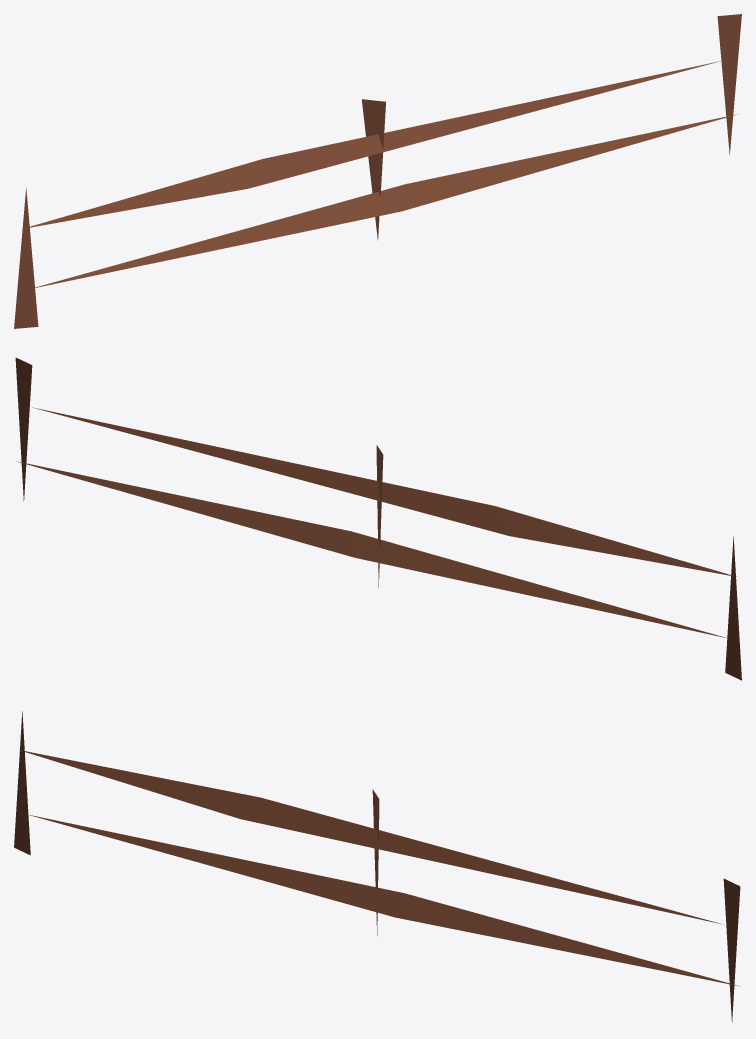
The model's file is Fence.lod3.glb.
The picture shows the model from 3 angles, top to bottom: view 1: azimuth 30°, elevation 25°; view 2: azimuth 150°, elevation 25°; view 3: azimuth 330°, elevation 25°; orthographic projection.
Parts seen in each view (by area): view 1: Fence; view 2: Fence; view 3: Fence.
Boxes of the visible parts, x1,y1,x2,y2 form: Fence: (14, 14, 741, 328); Fence: (15, 357, 741, 680); Fence: (14, 711, 740, 1022).
Bounding box in the file's own units: 5.89 × 1.1 × 0.1307.
